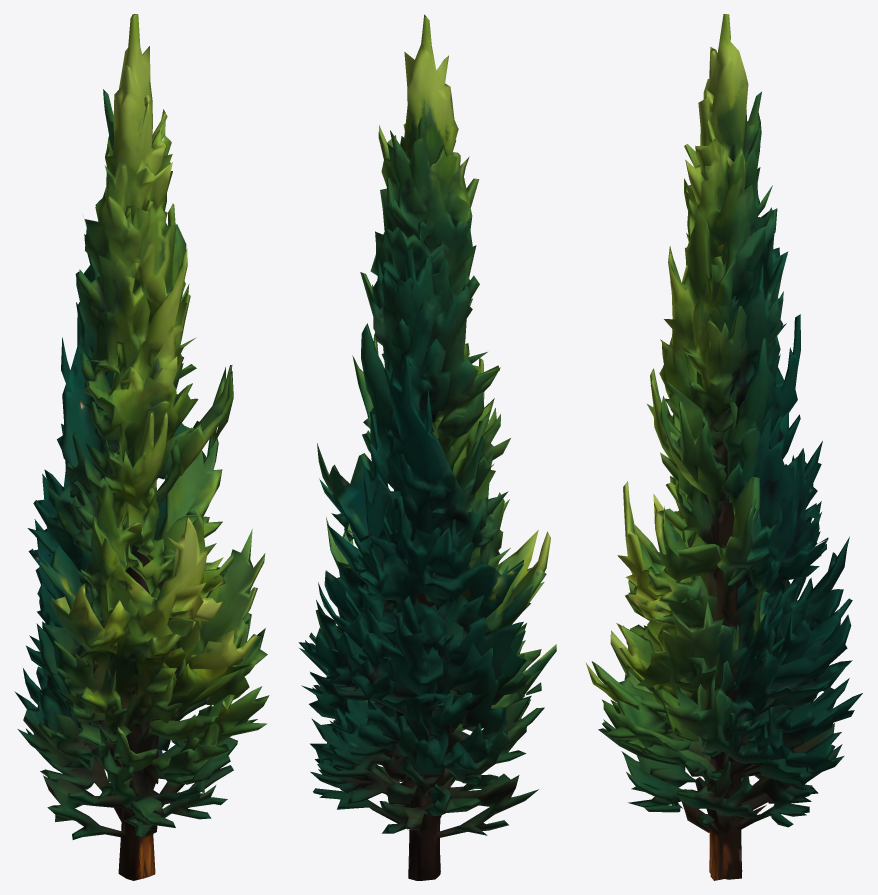
Rendered from cypress.glb.
3 views of the same model, side by side, from view 1: azimuth 30°, elevation 25°; view 2: azimuth 150°, elevation 25°; view 3: azimuth 270°, elevation 25° (orthographic).
Parts seen in each view (by area): view 1: tripo_node_cd7bf9a4-6158-4b5f-bad3-bf13be5ed960; view 2: tripo_node_cd7bf9a4-6158-4b5f-bad3-bf13be5ed960; view 3: tripo_node_cd7bf9a4-6158-4b5f-bad3-bf13be5ed960.
Boxes of the visible parts, <box> form: tripo_node_cd7bf9a4-6158-4b5f-bad3-bf13be5ed960: <box>14,14,269,880</box>; tripo_node_cd7bf9a4-6158-4b5f-bad3-bf13be5ed960: <box>298,14,556,880</box>; tripo_node_cd7bf9a4-6158-4b5f-bad3-bf13be5ed960: <box>585,14,862,880</box>.
Size of the model in its own units: 0.2655 by 1 by 0.2928.
Materials: 1 (1 with a texture image).
